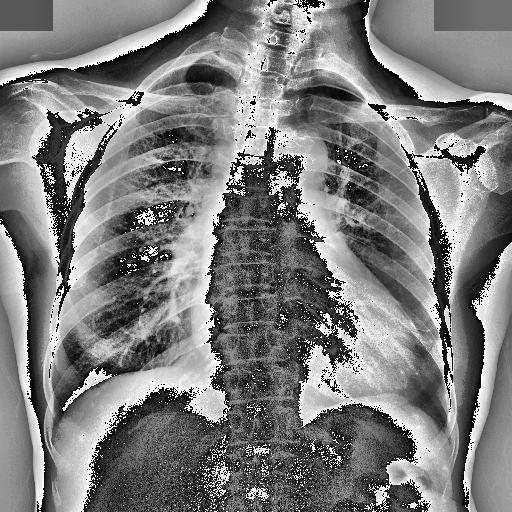0- Aortic enlargement: (268, 130, 326, 178), (280, 130, 328, 174)
3- Cardiomegaly: (189, 292, 434, 400), (188, 290, 427, 400), (188, 284, 421, 389)
